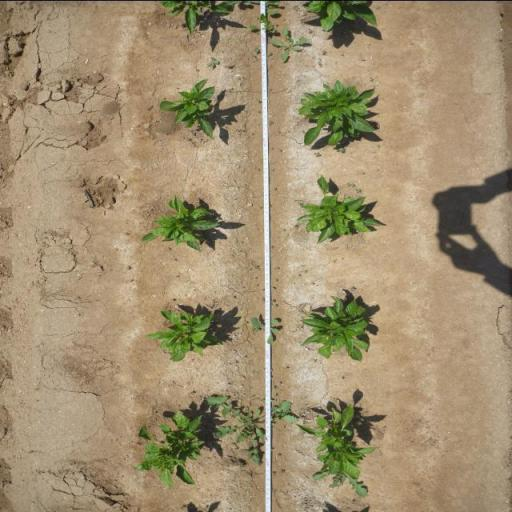plant: (293, 170, 384, 245), (132, 407, 206, 491), (294, 404, 378, 474), (296, 81, 378, 146), (138, 192, 220, 255), (298, 293, 372, 359), (143, 307, 223, 363), (158, 76, 220, 139), (158, 0, 234, 40), (306, 0, 380, 31), (206, 56, 220, 68)
weed: (205, 394, 299, 468), (310, 472, 369, 498), (269, 26, 307, 64), (250, 316, 280, 342), (246, 14, 276, 31), (260, 394, 274, 402), (336, 146, 346, 154), (312, 150, 322, 157), (349, 284, 357, 291), (235, 127, 246, 132), (346, 182, 356, 187), (254, 46, 260, 54), (333, 396, 339, 403), (368, 76, 375, 82), (322, 48, 328, 55), (307, 28, 314, 34), (268, 119, 274, 126), (354, 188, 362, 193), (251, 326, 259, 331), (271, 470, 277, 476), (254, 264, 260, 270), (188, 390, 196, 394), (285, 364, 290, 370), (312, 358, 317, 364), (340, 374, 345, 380), (279, 468, 286, 472), (254, 98, 261, 102), (273, 392, 277, 398), (276, 452, 282, 456), (272, 187, 278, 191), (170, 298, 176, 302), (268, 51, 273, 55), (257, 109, 262, 113), (261, 297, 265, 302), (274, 266, 280, 269), (270, 286, 276, 289), (270, 146, 274, 150), (272, 298, 276, 302), (272, 386, 277, 389), (278, 148, 283, 151), (270, 168, 276, 170), (270, 245, 274, 248), (274, 278, 278, 281), (172, 258, 177, 260), (245, 320, 248, 323), (250, 132, 254, 134), (274, 304, 278, 306), (261, 288, 264, 290), (277, 382, 282, 383)
